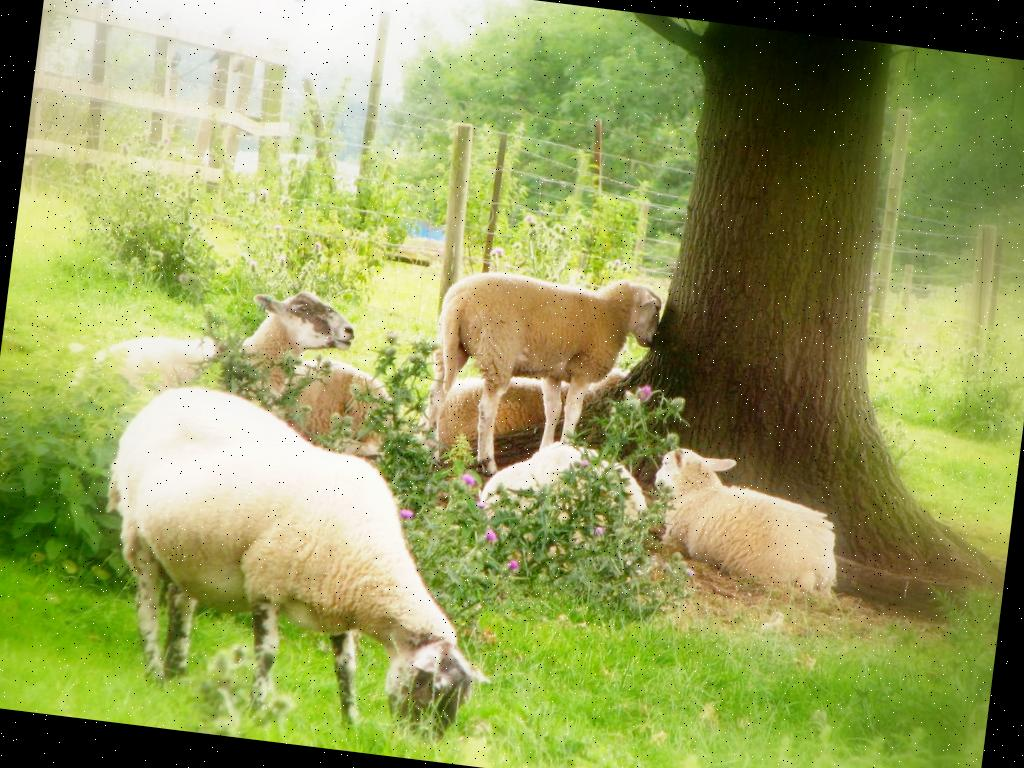Sheep: (43, 209, 870, 594), (83, 377, 526, 743)
